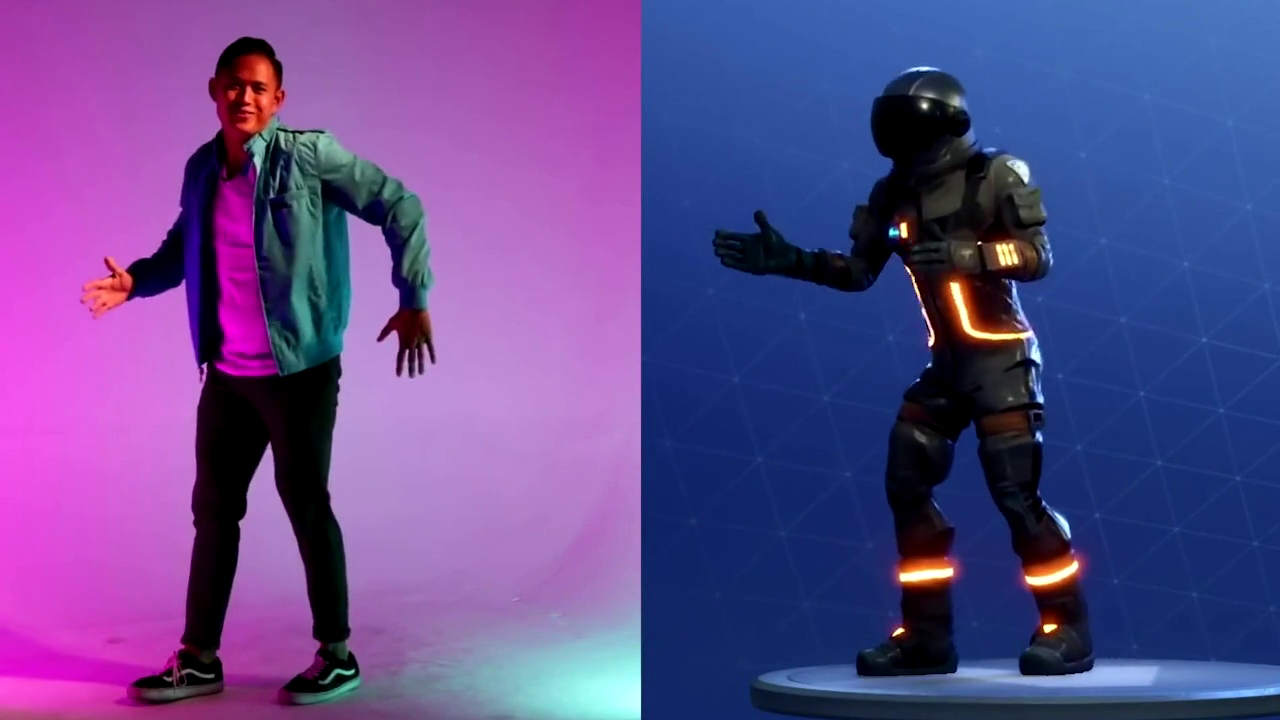Head: (192, 35, 302, 150)
Hip: (163, 336, 382, 451)
LeftAnkle: (271, 618, 388, 713)
LeftElbow: (348, 164, 436, 250)
LeftKnee: (261, 459, 379, 534)
LeftShoulder: (281, 114, 375, 215)
LeftWrist: (376, 285, 462, 388)
RightAnkle: (108, 609, 251, 704)
RightKnee: (162, 468, 263, 560)
RightShoulder: (162, 113, 232, 213)
RightWrist: (60, 234, 157, 326)
Torso: (179, 149, 361, 383)
